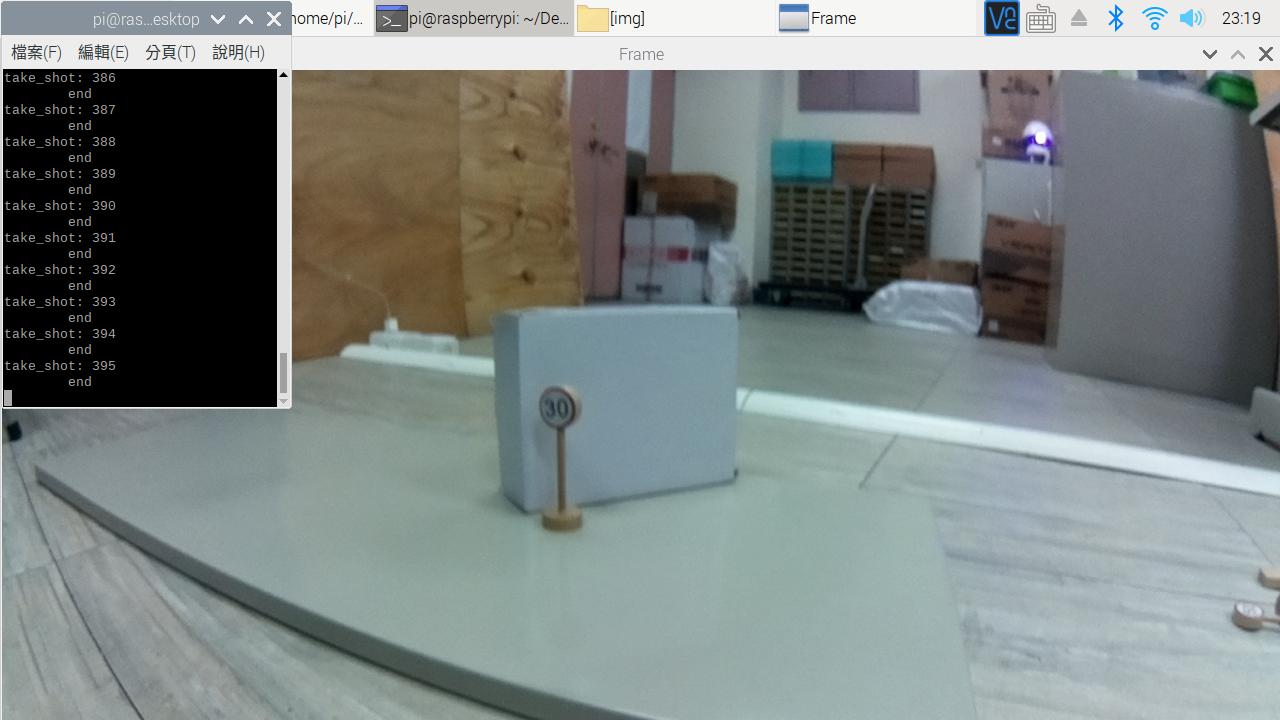Speed30: (531, 380, 589, 456)
